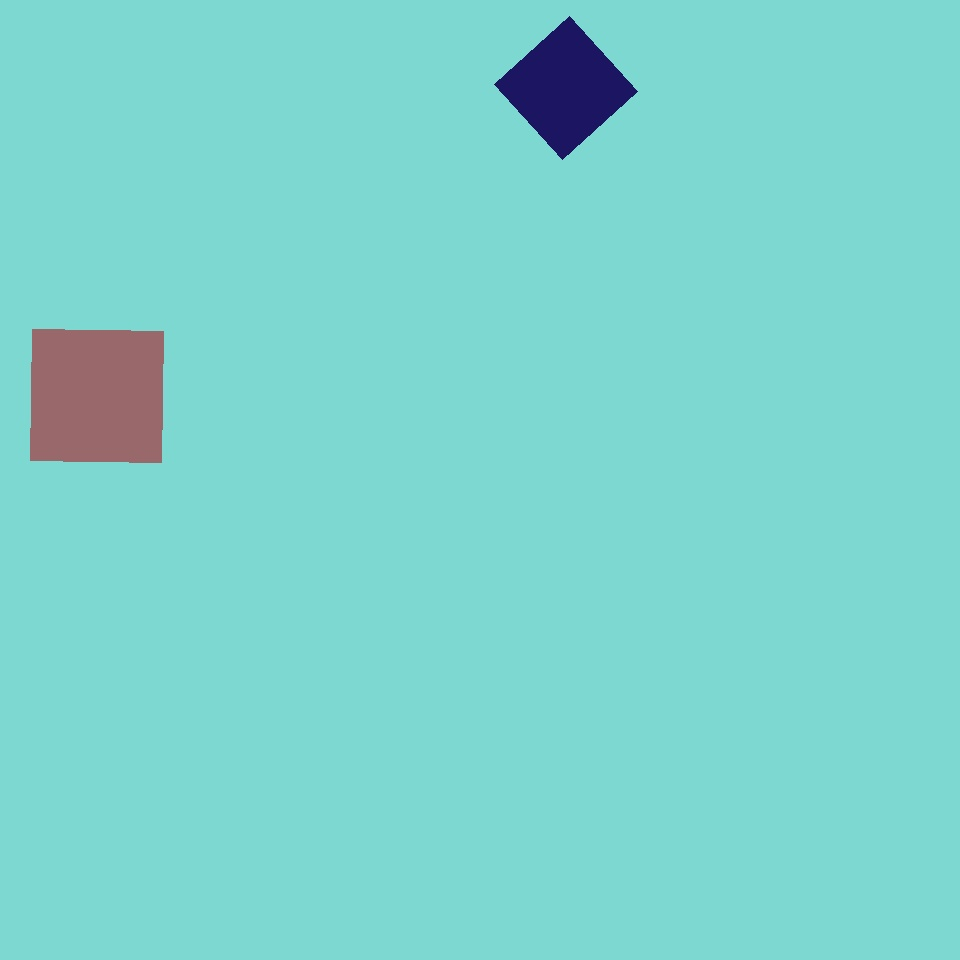square: (494, 16, 638, 160), (30, 330, 164, 462)
